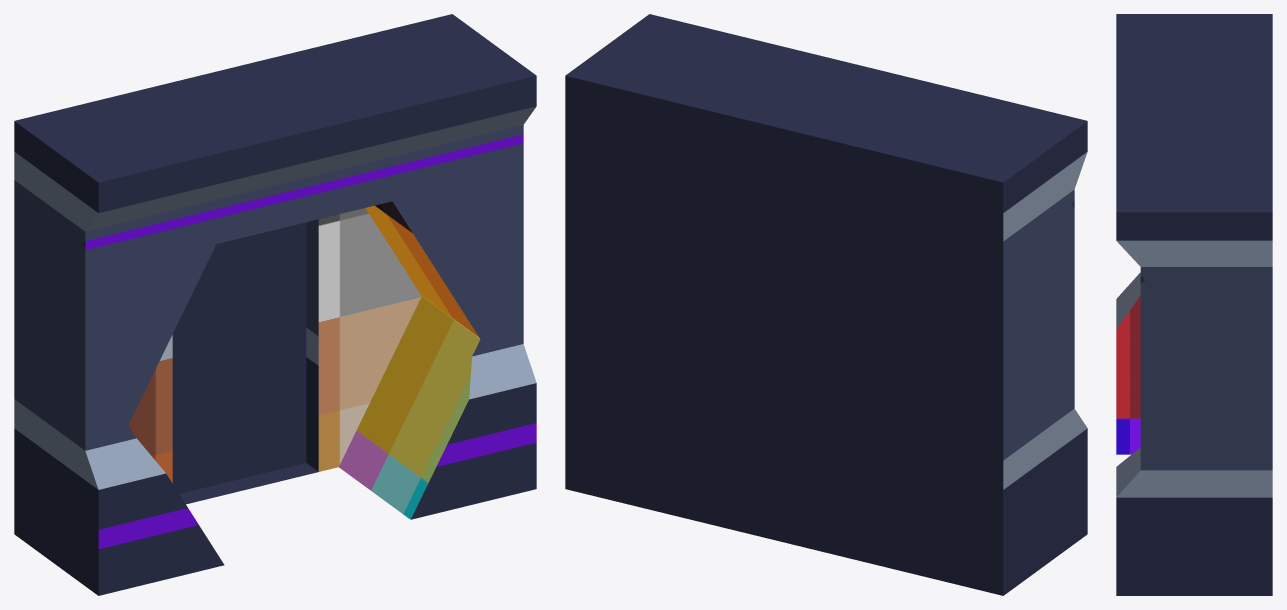
File: wallDoorFrameDark.fbx
3 views of the same model, side by side, from view 1: azimuth 30°, elevation 25°; view 2: azimuth 150°, elevation 25°; view 3: azimuth 270°, elevation 25° (orthographic). The views are drawn at different scales.
Parts seen in each view (by area): view 1: redWall1.001; view 2: redWall1.001; view 3: redWall1.001.
Boxes of the visible parts, x1,y1,x2,y2 form: redWall1.001: (14, 14, 536, 595); redWall1.001: (565, 14, 1087, 595); redWall1.001: (1116, 14, 1272, 595).
Bounding box in the file's own units: 600 × 541 × 200.
